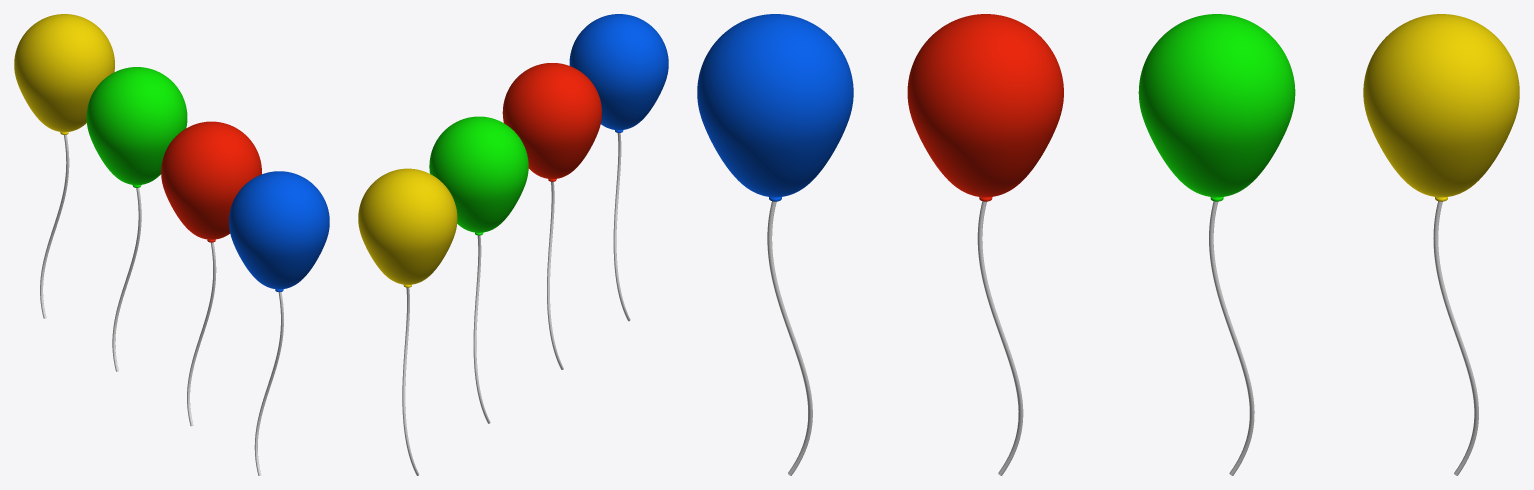
File: Balloons.fbx
3 views of the same model, side by side, from view 1: azimuth 30°, elevation 25°; view 2: azimuth 150°, elevation 25°; view 3: azimuth 270°, elevation 25° (orthographic). The views are drawn at different scales.
Visible parts, largest first — view 1: BlueBalloon, GreenBalloon, YellowBalloon, RedBalloon; view 2: YellowBalloon, RedBalloon, GreenBalloon, BlueBalloon; view 3: RedBalloon, BlueBalloon, GreenBalloon, YellowBalloon.
Boxes of the visible parts, <box> form: BlueBalloon: <box>229,171,329,475</box>; GreenBalloon: <box>86,67,187,371</box>; YellowBalloon: <box>14,14,114,318</box>; RedBalloon: <box>161,121,261,426</box>; YellowBalloon: <box>358,168,457,475</box>; RedBalloon: <box>502,63,601,369</box>; GreenBalloon: <box>429,116,528,423</box>; BlueBalloon: <box>569,14,668,321</box>; RedBalloon: <box>907,14,1063,475</box>; BlueBalloon: <box>697,14,853,475</box>; GreenBalloon: <box>1138,14,1295,475</box>; YellowBalloon: <box>1363,14,1519,475</box>.
Size of the model in its own units: 197 by 649 by 1038.
